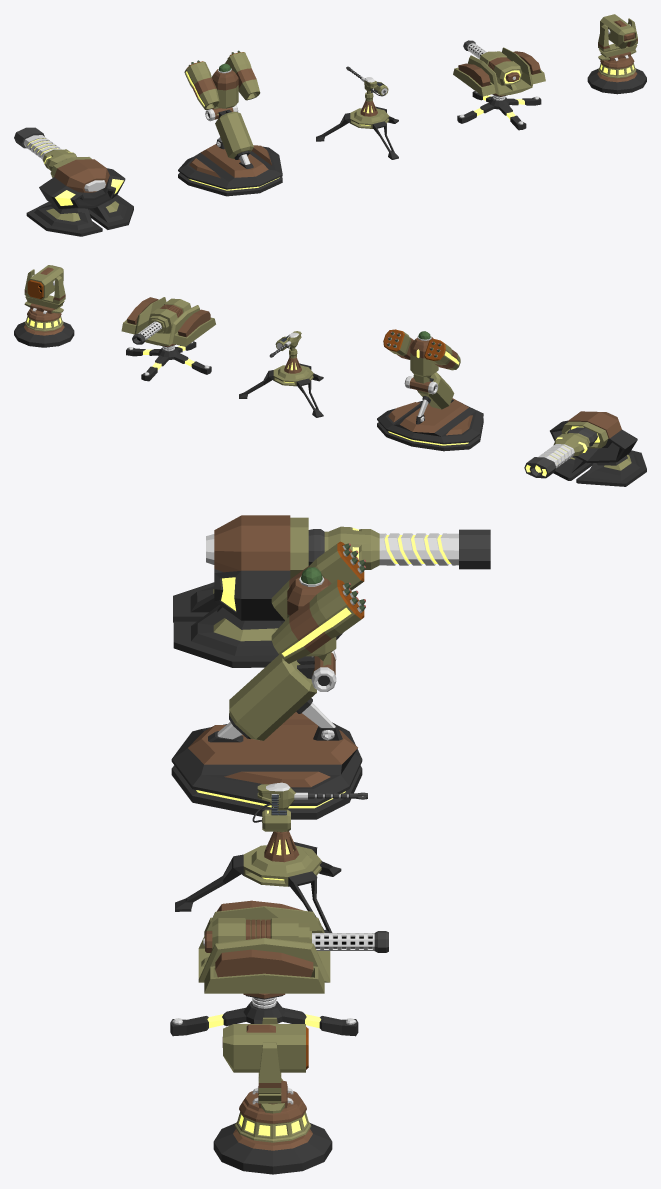
The model's file is silah_setirenkli.fbx.
3 renders of one model, top to bottom at view 1: azimuth 30°, elevation 25°; view 2: azimuth 150°, elevation 25°; view 3: azimuth 270°, elevation 25°, orthographic. The views are drawn at different scales.
Parts seen in each view (by area): view 1: s4, s5, s1.014, s3, s2.011, s5.001; view 2: s4, s5, s1.014, s3, s2.011, s5.001, s1.004; view 3: s4, s5, s1.014, s3, s2.011, s5.001, s1.004.
Part boxes in pixels (<box>): s4: <box>178,52,282,196</box>; s5: <box>26,157,133,236</box>; s1.014: <box>453,47,545,130</box>; s3: <box>587,14,646,94</box>; s2.011: <box>316,66,398,159</box>; s5.001: <box>14,127,76,170</box>; s4: <box>377,329,483,451</box>; s5: <box>550,411,646,486</box>; s1.014: <box>121,297,215,381</box>; s3: <box>14,265,74,347</box>; s2.011: <box>239,331,323,417</box>; s5.001: <box>524,427,597,478</box>; s1.004: <box>132,321,161,344</box>; s4: <box>171,541,364,819</box>; s5: <box>173,515,343,667</box>; s1.014: <box>170,900,358,1036</box>; s3: <box>213,1017,332,1174</box>; s2.011: <box>175,782,367,932</box>; s5.001: <box>308,526,490,569</box>; s1.004: <box>312,931,388,952</box>.
Bounding box in the file's own units: 2128 × 353 × 487.
